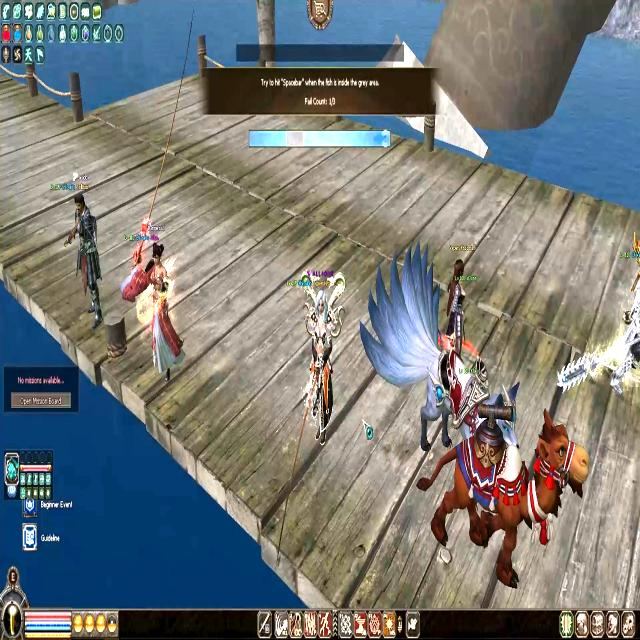fishes: (373, 132, 386, 145)
